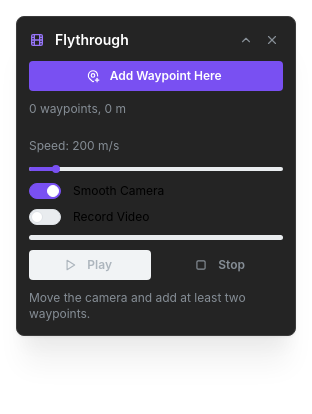
it: FlythroughPanel › captures the camera position as a waypoint
Click the button "Add Waypoint Here": {"x": 156, "y": 76} [29, 61, 283, 91]
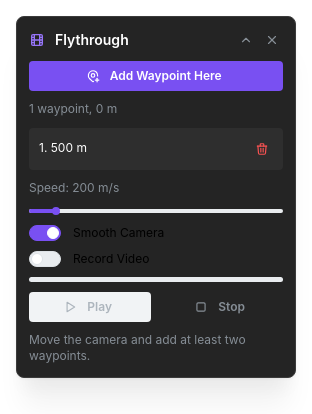
Now the number of elements with test id "flythrough-waypoint" is 1, box [29, 128, 283, 170]
Now the element with test id "flythrough-waypoint" reads "1. 500 m", box [29, 128, 283, 170]
Now the text with test id "flythrough-summary" reads "1 waypoint, 0 m", box [29, 101, 117, 116]
